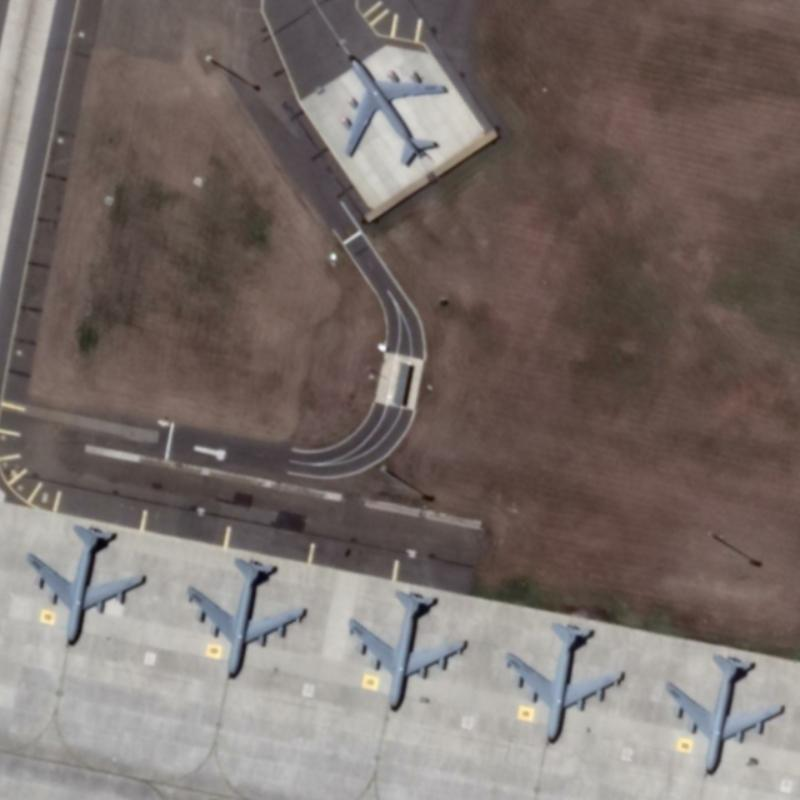A14: (18, 516, 157, 655), (327, 37, 464, 173), (342, 577, 474, 717), (183, 546, 308, 685), (501, 615, 630, 748), (658, 649, 785, 772)
